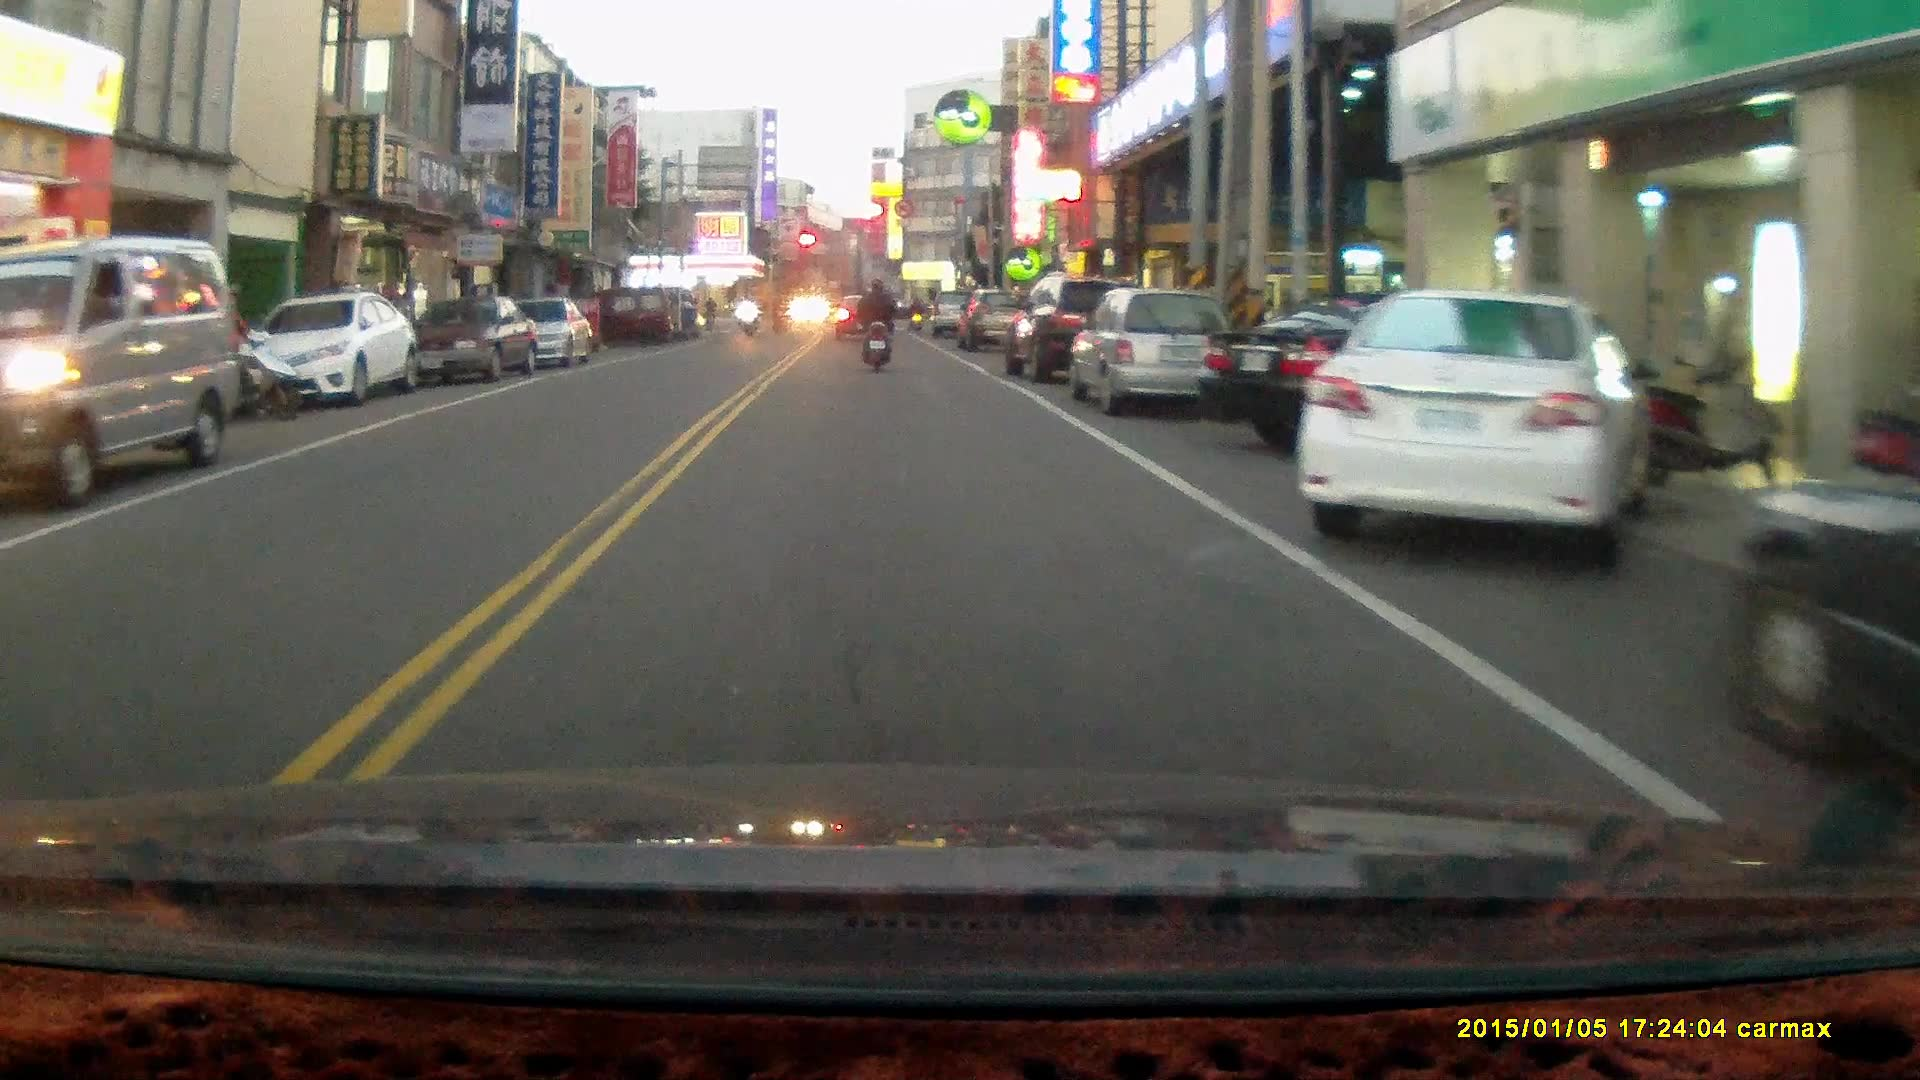rider: (224, 286, 303, 426), (854, 274, 897, 375), (734, 292, 758, 339)
vehicle: (1302, 288, 1654, 558), (1733, 429, 1920, 811), (1199, 294, 1598, 459), (1, 238, 243, 507), (1071, 285, 1246, 415), (246, 293, 417, 413), (1002, 280, 1146, 385), (401, 297, 542, 385), (482, 299, 591, 375)
